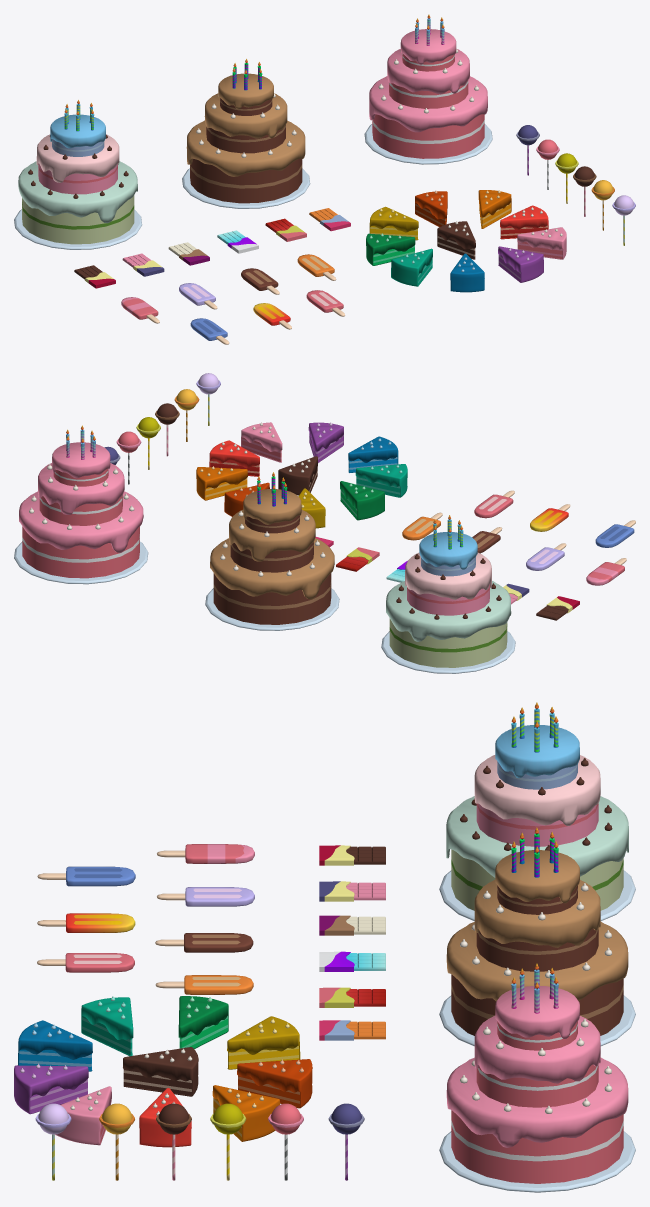
The model's file is Sweet Pack  (Low Poly).fbx.
The picture shows the model from 3 angles, top to bottom: view 1: azimuth 30°, elevation 25°; view 2: azimuth 150°, elevation 25°; view 3: azimuth 270°, elevation 25°; orthographic projection. The views are drawn at different scales.
Parts seen in each view (by area): view 1: Strawberry Cake, Chocolate Cake, Rainbow Cake, Pastry.008, Pastry.005, Pastry.001, Pastry.007, Pastry.009, Pastry.002, Pastry, Pastry.006, Pastry.003 (+14 smaller); view 2: Rainbow Cake, Chocolate Cake, Strawberry Cake, Pastry.003, Pastry.007, Pastry.008, Pastry.006, Pastry.001, Pastry.002, Pastry.005, Pastry, Candy.004 (+15 smaller); view 3: Strawberry Cake, Chocolate Cake, Rainbow Cake, Pastry, Pastry.005, Pastry.004, Pastry.006, Pastry.009, Pastry.007, Pastry.008, Pastry.003, Pastry.001 (+20 smaller).
Part boxes in pixels (x1,y1,x2,y2): Strawberry Cake: [364, 14, 492, 164]; Chocolate Cake: [182, 59, 310, 208]; Rainbow Cake: [14, 100, 142, 249]; Pastry.008: [366, 233, 415, 265]; Pastry.005: [498, 246, 543, 282]; Pastry.001: [517, 227, 566, 259]; Pastry.007: [391, 248, 432, 286]; Pastry.009: [369, 206, 418, 240]; Pastry.002: [500, 205, 548, 239]; Pastry: [437, 221, 475, 259]; Pastry.006: [450, 253, 484, 292]; Pastry.003: [478, 190, 511, 228]; Rainbow Cake: [381, 515, 515, 673]; Chocolate Cake: [205, 472, 339, 630]; Strawberry Cake: [14, 425, 148, 584]; Pastry.003: [196, 466, 247, 500]; Pastry.007: [355, 464, 407, 497]; Pastry.008: [340, 481, 384, 520]; Pastry.006: [348, 436, 398, 472]; Pastry.001: [241, 422, 282, 462]; Pastry.002: [209, 440, 259, 476]; Pastry.005: [308, 422, 343, 462]; Pastry: [278, 456, 317, 495]; Candy.004: [530, 504, 570, 531]; Strawberry Cake: [439, 963, 635, 1192]; Chocolate Cake: [439, 827, 635, 1046]; Rainbow Cake: [439, 702, 635, 921]; Pastry: [123, 1047, 198, 1096]; Pastry.005: [14, 1063, 88, 1114]; Pastry.004: [237, 1059, 312, 1108]; Pastry.006: [18, 1020, 92, 1071]; Pastry.009: [227, 1016, 300, 1069]; Pastry.007: [81, 996, 133, 1056]; Pastry.008: [178, 996, 228, 1048]; Pastry.003: [212, 1085, 279, 1141]; Pastry.001: [55, 1086, 111, 1145].
Size of the model in its own units: 8.57 by 2.1 by 6.54.
Materials: 3 (3 with a texture image).
